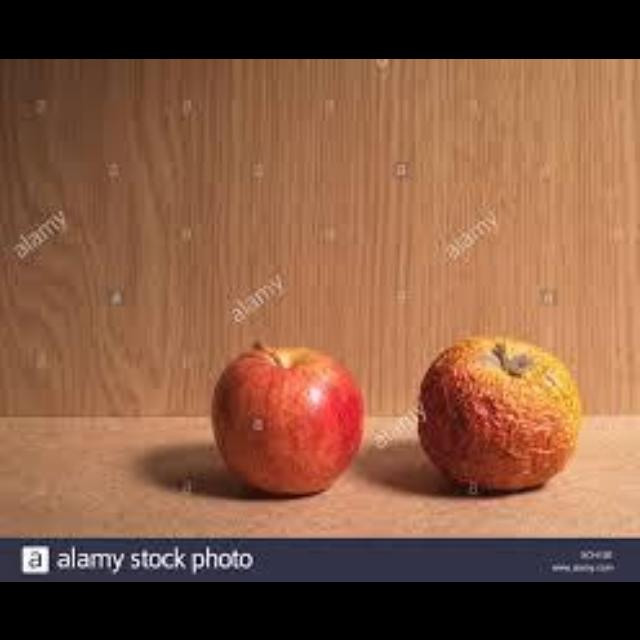apple: (415, 337, 581, 489), (212, 342, 361, 492)
rotten: (415, 337, 581, 489)
